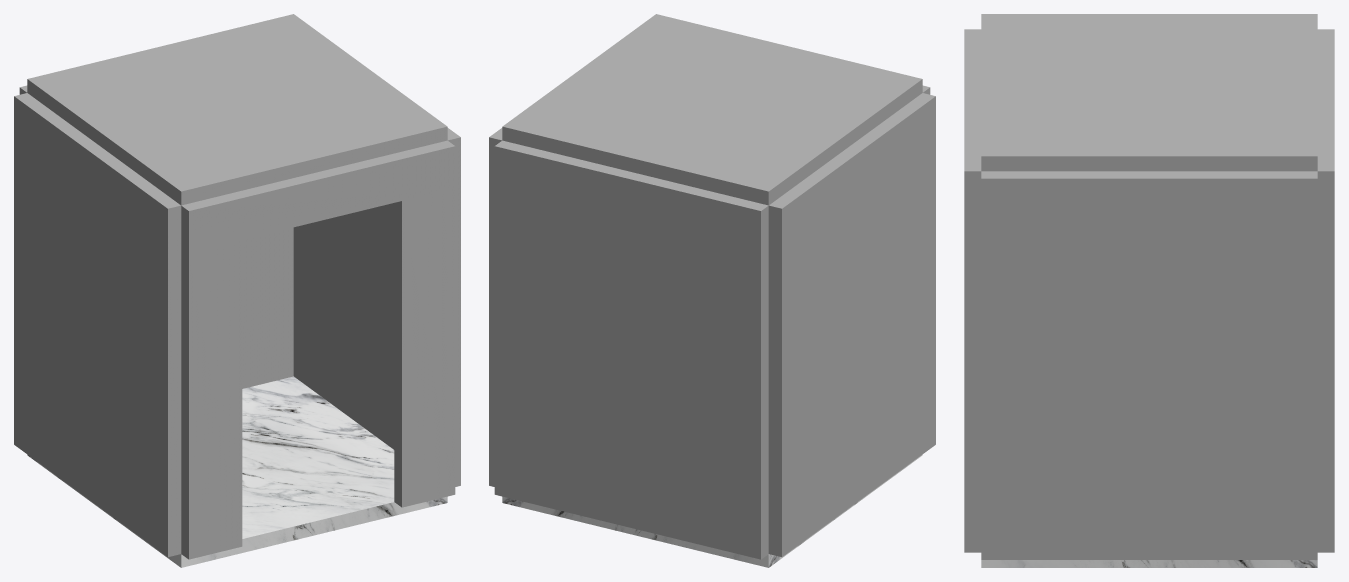
The model's file is elevator.fbx.
The picture shows the model from 3 angles, left to right: view 1: azimuth 30°, elevation 25°; view 2: azimuth 150°, elevation 25°; view 3: azimuth 270°, elevation 25°; orthographic projection. The views are drawn at different scales.
Visible parts, largest first — view 1: ewall, ceiling, wwall, floor, nwalle, nwallw, nwallt, swall; view 2: swall, ewall, ceiling, floor, wwall; view 3: wwall, ceiling, swall, nwallw, nwallt, floor.
Boxes of the visible parts, x1,y1,x2,y2 form: ewall: [14, 93, 181, 556]; ceiling: [27, 14, 447, 205]; wwall: [293, 128, 460, 486]; floor: [27, 376, 447, 567]; nwalle: [181, 240, 242, 559]; nwallw: [394, 188, 455, 507]; nwallt: [181, 140, 455, 252]; swall: [19, 85, 293, 388]; swall: [494, 140, 768, 559]; ewall: [768, 93, 935, 556]; ceiling: [502, 14, 922, 205]; floor: [502, 454, 922, 567]; wwall: [489, 128, 502, 486]; wwall: [981, 171, 1317, 559]; ceiling: [981, 14, 1317, 171]; swall: [1317, 29, 1334, 552]; nwallw: [964, 217, 981, 552]; nwallt: [964, 29, 981, 217]; floor: [981, 560, 1317, 567].
Bounding box in the file's own units: 2.2 × 2.7 × 2.2.
Materials: 2 (1 with a texture image).
